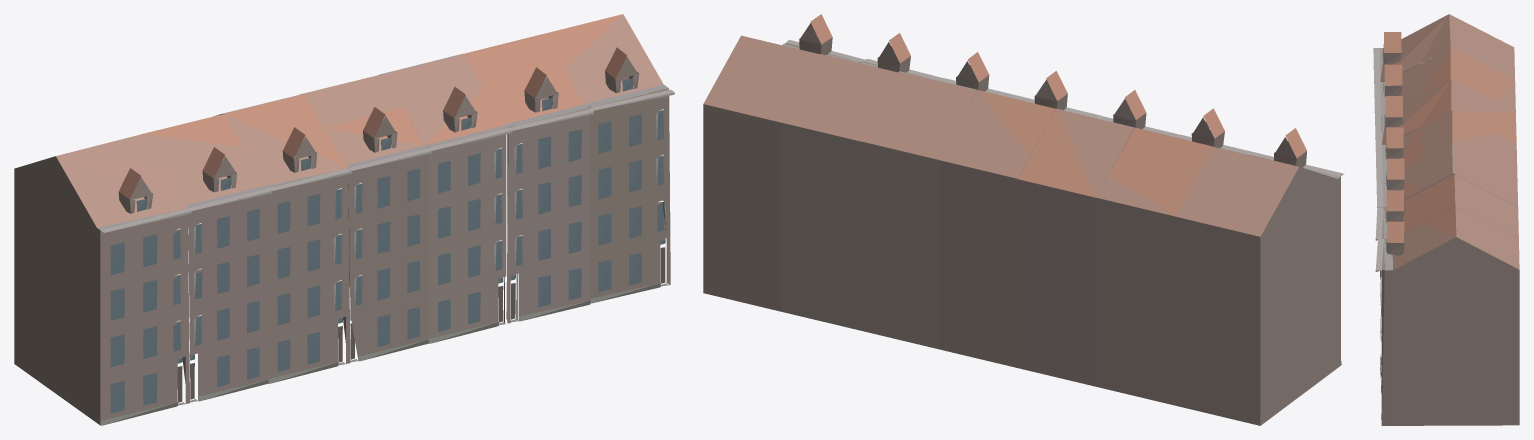
File: chunk-face-djambi-1-29-r1.lod2.glb
3 views of the same model, side by side, from view 1: azimuth 30°, elevation 25°; view 2: azimuth 150°, elevation 25°; view 3: azimuth 270°, elevation 25° (orthographic). The views are drawn at different scales.
Visible parts, largest first — view 1: lod2; view 2: lod2; view 3: lod2.
Part boxes in pixels (x1,y1,x2,y2): lod2: (14, 14, 674, 425); lod2: (703, 14, 1344, 425); lod2: (1373, 14, 1519, 425).
Size of the model in its own units: 39.1 by 15.5 by 10.84.
